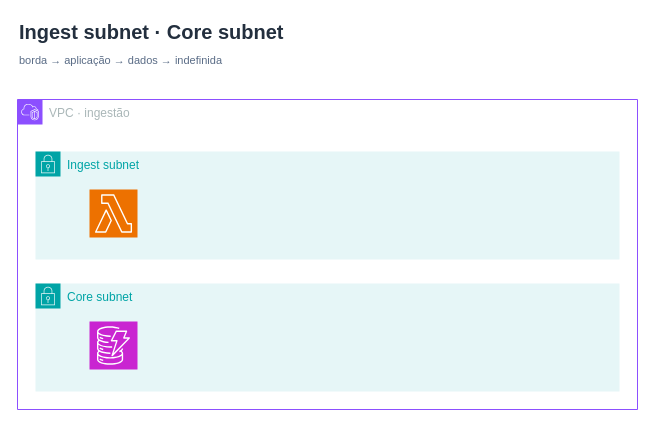
This 655x427 diagram has some shape labels left out. Each missing label, with the centre of its shape:
Amazon DynamoDB: the point at 113,345
AWS Lambda: the point at 113,213
